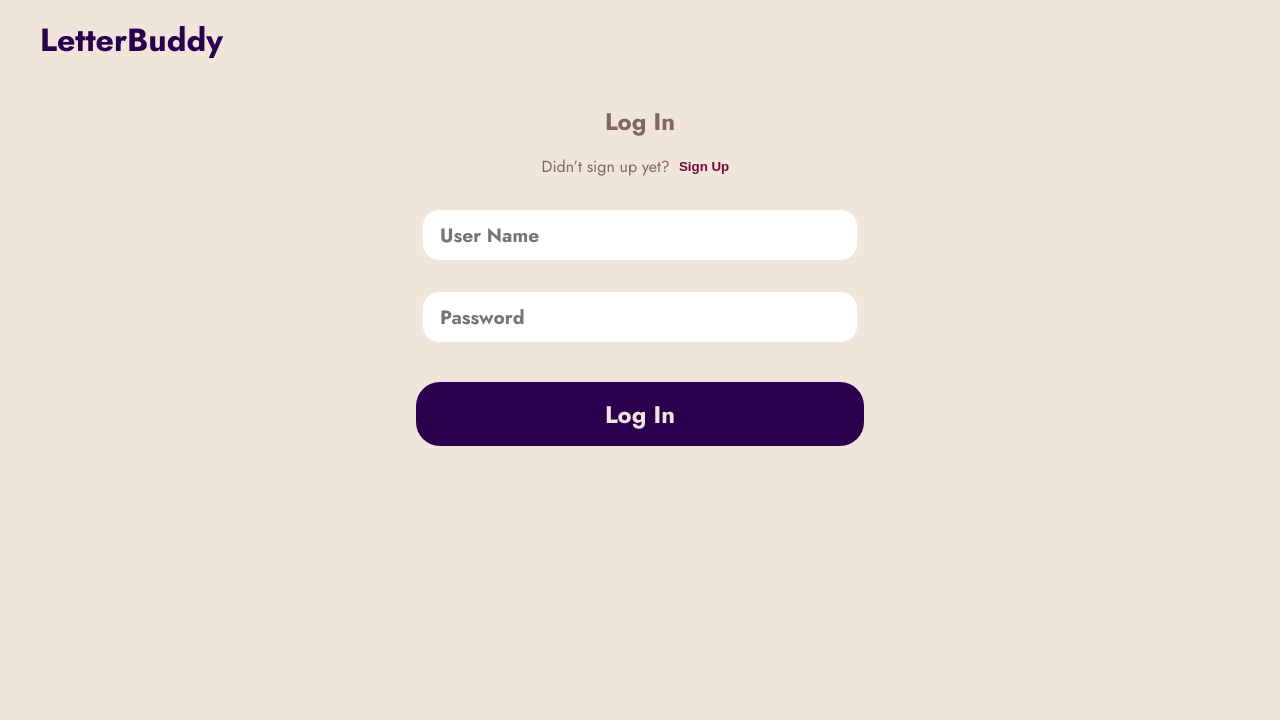
it: Child Exercise Flow › should skip exercise and get new one
Type "testchild" into the field named "username" at [640, 235], box [423,210,857,260]
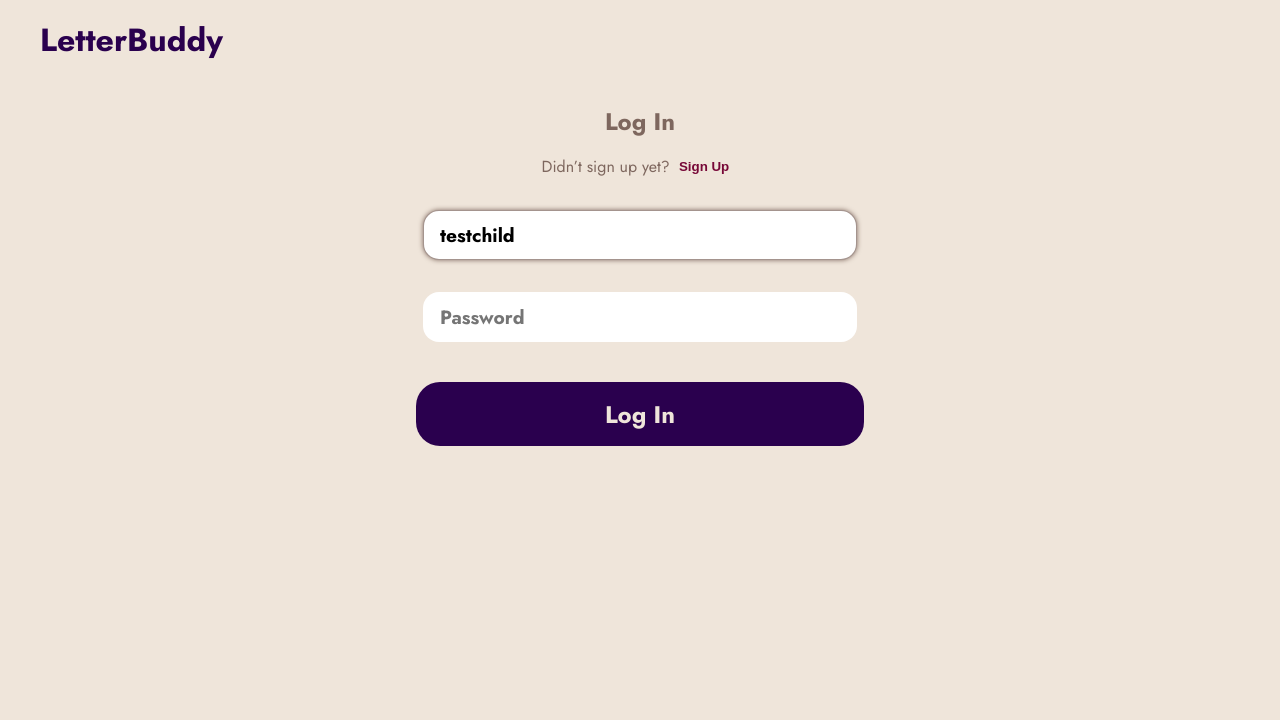
Type "password123" into the password field named "password" at [640, 317], box [423,292,857,342]
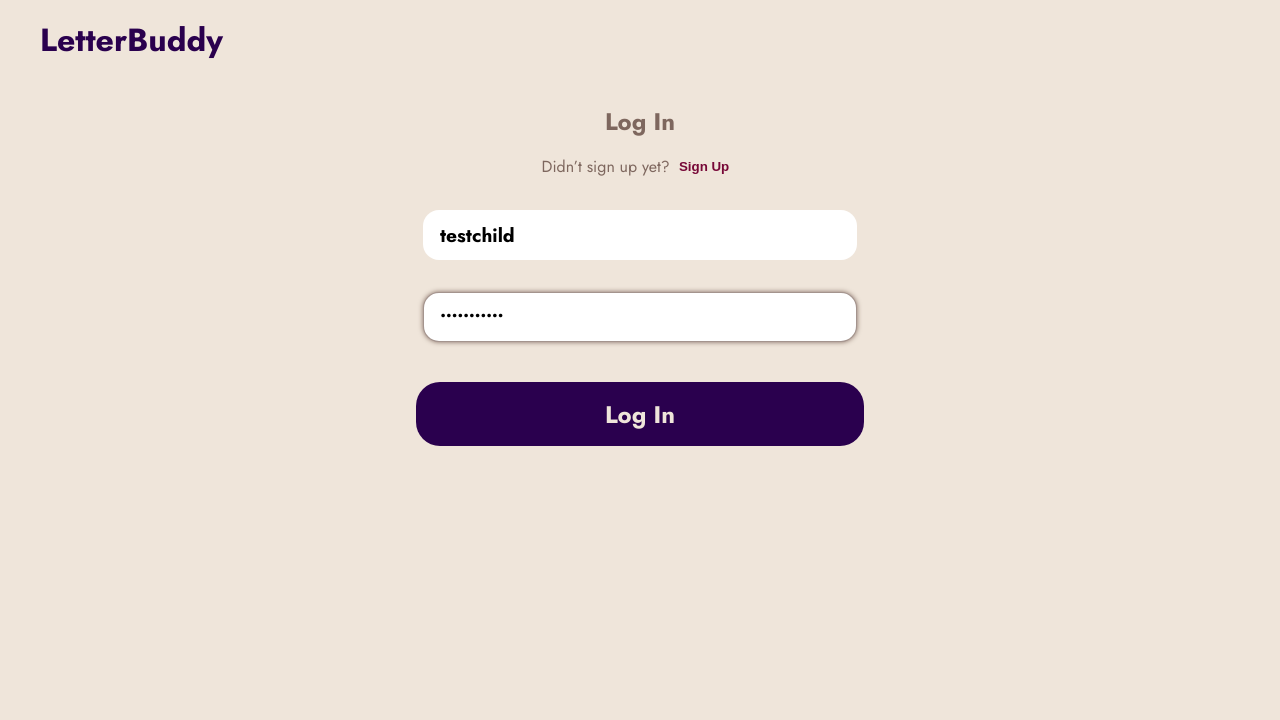
Click the submit button at [640, 414], box [416,382,864,446]
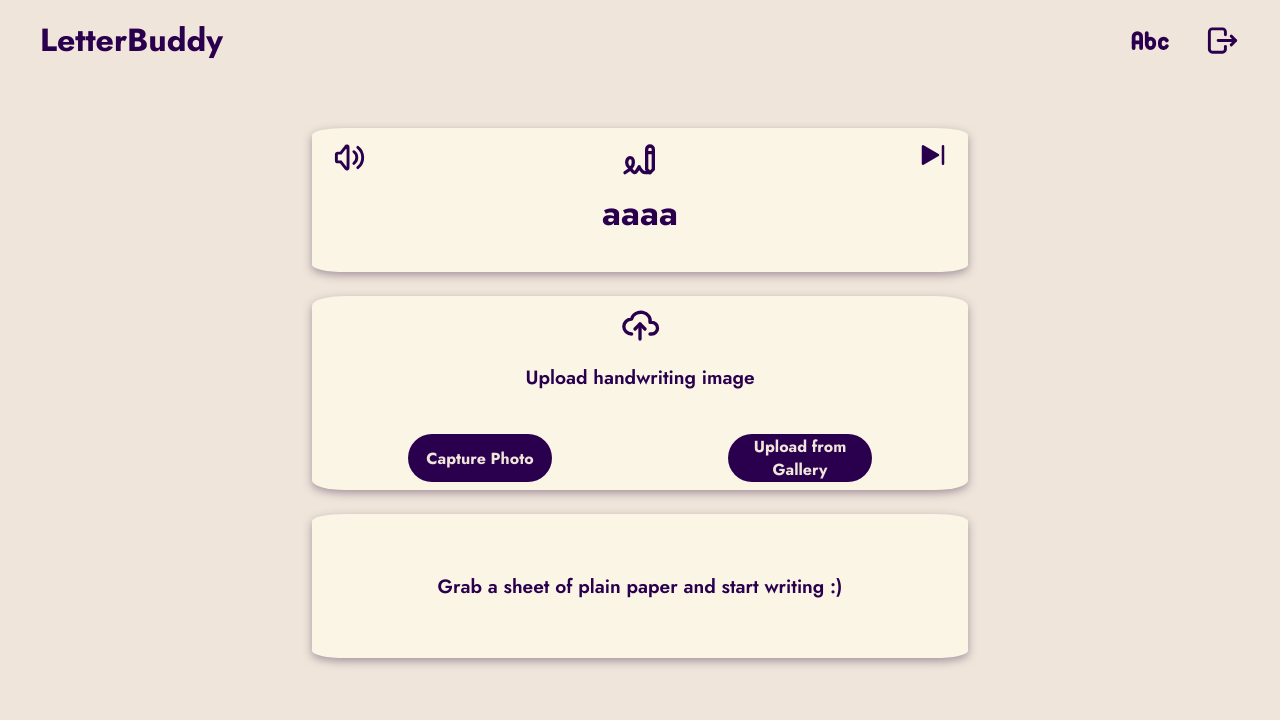
Click the button named "skip-button" at [933, 155], box [918,140,948,170]
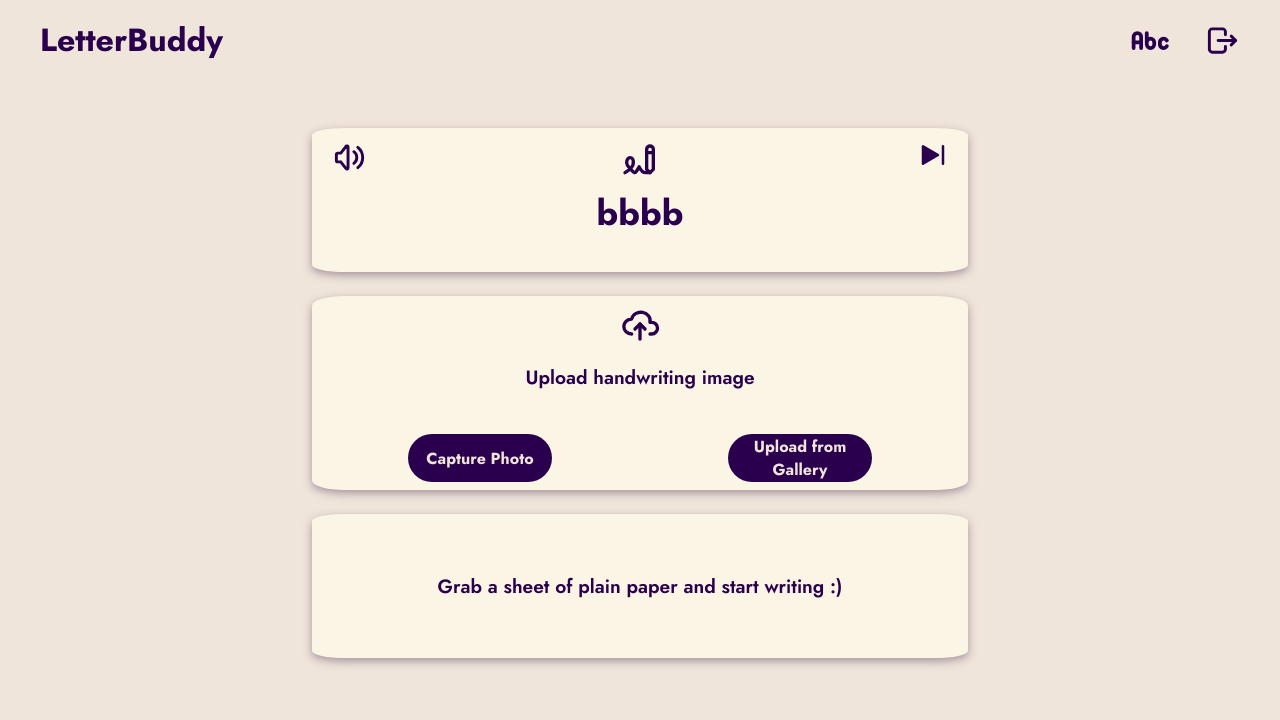
Expected: the text "bbbb" is shown, [597,186,683,238]
